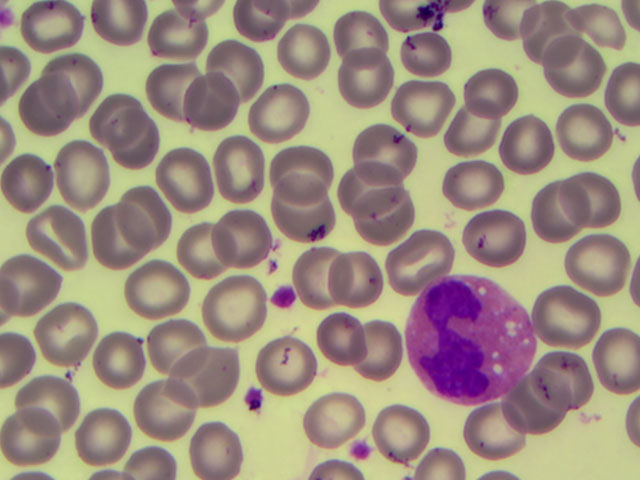Platelets: (265, 281, 298, 313), (347, 437, 373, 463), (242, 388, 270, 410), (1, 3, 17, 31)
RBC: (53, 46, 112, 100), (18, 81, 77, 135), (85, 87, 144, 141), (104, 117, 163, 171), (56, 139, 115, 193), (2, 151, 61, 205), (28, 209, 87, 263), (9, 256, 68, 310), (33, 306, 92, 360), (20, 369, 79, 423), (4, 412, 63, 466), (66, 411, 125, 465), (147, 382, 206, 436), (198, 342, 257, 396), (143, 323, 202, 377), (91, 329, 150, 383), (120, 261, 179, 315), (84, 210, 143, 264), (113, 187, 172, 241), (157, 155, 216, 209), (205, 142, 264, 196), (183, 79, 242, 133), (145, 55, 204, 109), (208, 38, 267, 92), (156, 9, 215, 63), (241, 84, 300, 138), (274, 30, 333, 84), (273, 137, 332, 191), (274, 194, 333, 248), (281, 248, 340, 302), (323, 256, 382, 310), (218, 211, 277, 265), (171, 217, 230, 271), (206, 284, 265, 338), (258, 337, 317, 391), (298, 314, 357, 368), (350, 321, 409, 375), (375, 403, 434, 457), (301, 384, 360, 438), (187, 426, 246, 480), (461, 404, 520, 458), (506, 378, 565, 432), (530, 351, 589, 405), (581, 332, 640, 386), (530, 278, 589, 332), (568, 232, 627, 286), (537, 189, 596, 243), (561, 174, 620, 228), (561, 106, 620, 160), (502, 115, 561, 169), (440, 103, 499, 157), (458, 67, 517, 121), (383, 74, 442, 128), (351, 57, 410, 111), (318, 12, 377, 66), (396, 21, 455, 75), (523, 2, 582, 56), (554, 41, 613, 95), (357, 196, 416, 250), (338, 164, 397, 218), (358, 124, 417, 178), (461, 210, 520, 264), (445, 160, 504, 214), (393, 232, 452, 286), (22, 1, 81, 54), (90, 1, 149, 54), (479, 1, 538, 54)
WBC: (405, 276, 537, 407)
